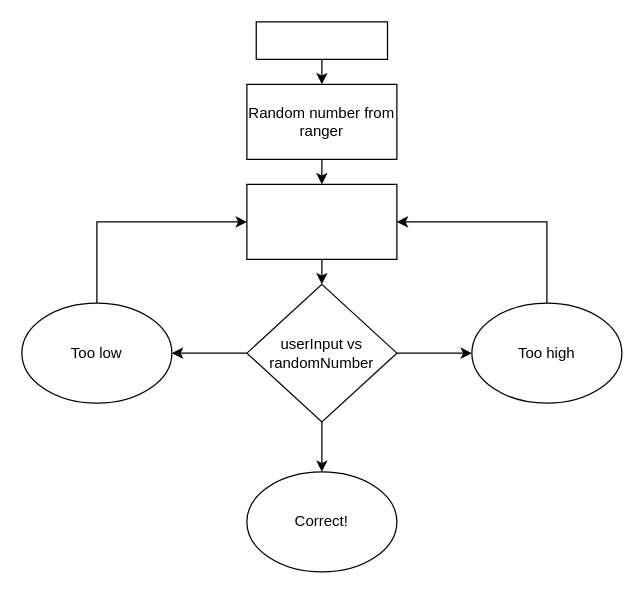
Image size: 644x594. Some labels were removed from this diagram. The centre of each missing label's shape, as x and y in pixels:
"Start" belongs at pixel 321 40.
"User input" belongs at pixel 321 221.
